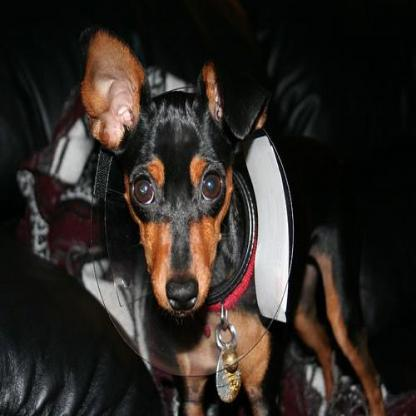miniature_pinscher: (74, 17, 388, 414)
